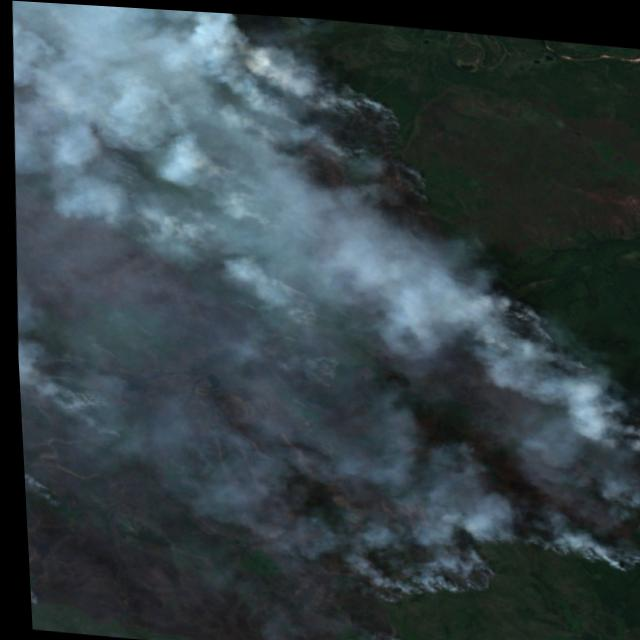fire: (326, 69, 427, 222), (358, 536, 511, 610), (473, 504, 640, 568), (32, 365, 131, 450), (491, 300, 589, 364), (601, 404, 640, 509), (19, 466, 61, 524), (349, 614, 406, 640), (24, 582, 37, 609)
